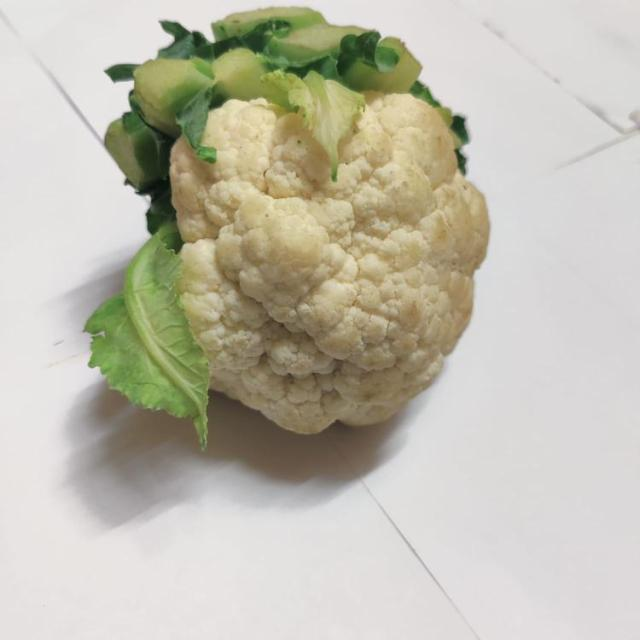Organik: (64, 6, 491, 450)
